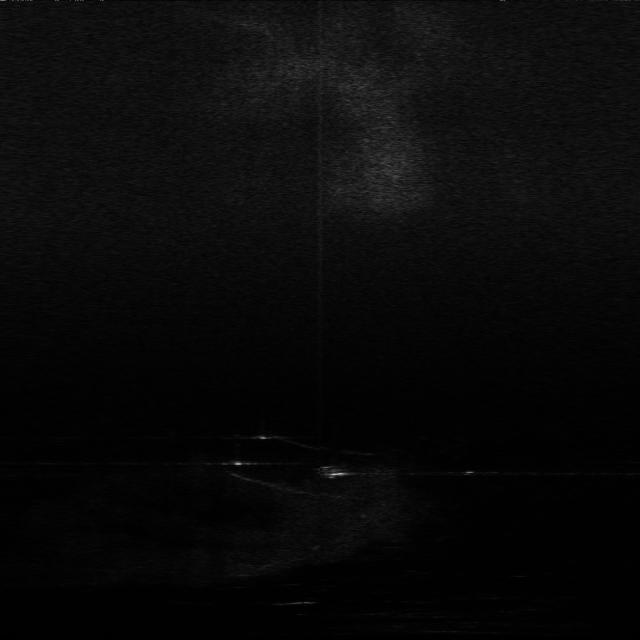rov: (321, 464, 353, 480)
